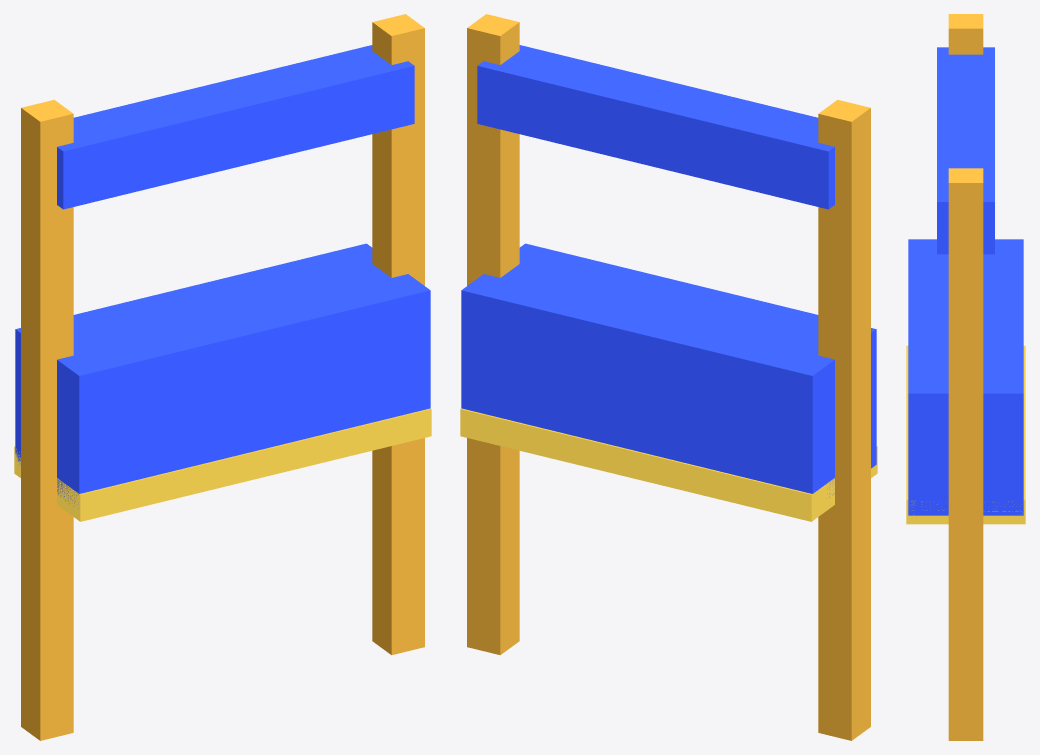
File: slide-beam.glb
3 renders of one model, left to right at view 1: azimuth 30°, elevation 25°; view 2: azimuth 150°, elevation 25°; view 3: azimuth 270°, elevation 25°, orthographic. The views are drawn at different scales.
Visible parts, largest first — view 1: bridges slide-beam; view 2: bridges slide-beam; view 3: bridges slide-beam.
Part boxes in pixels (<box>): bridges slide-beam: <box>14,14,431,740</box>; bridges slide-beam: <box>460,14,877,740</box>; bridges slide-beam: <box>906,14,1025,740</box>.
Size of the model in its own units: 2.08 by 3.2 by 0.62.
